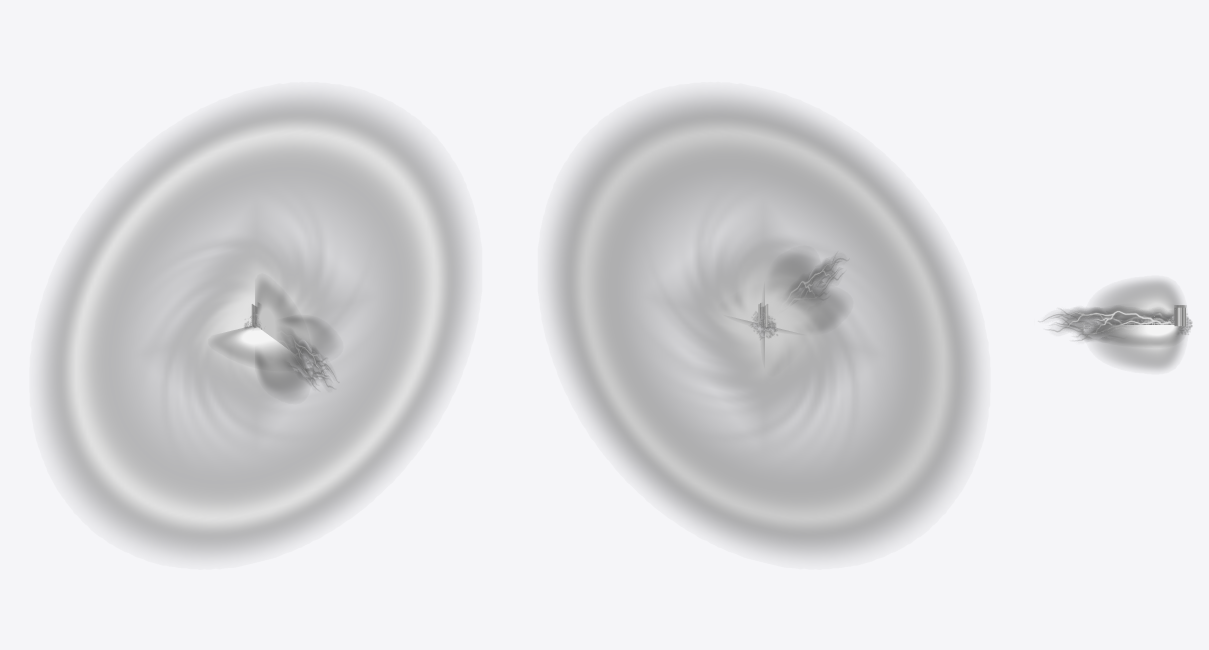
The model's file is si_eos_3210.glb.
3 renders of one model, left to right at view 1: azimuth 30°, elevation 25°; view 2: azimuth 150°, elevation 25°; view 3: azimuth 270°, elevation 25°, orthographic. The views are drawn at different scales.
Visible parts, largest first — view 1: layer_03_si_est_0402, layer_01_si_est_0103; view 2: layer_03_si_est_0402, layer_01_si_est_0103; view 3: layer_01_si_est_0103, layer_05_si_est_0800, layer_06_si_est_0800, layer_08_si_est_0800, layer_07_si_est_0800, layer_04_si_est_0600.
Boxes of the visible parts, box(x1,y1,x2,y2) form: layer_03_si_est_0402: box(42, 96, 469, 555); layer_01_si_est_0103: box(214, 279, 335, 397); layer_03_si_est_0402: box(550, 96, 977, 555); layer_01_si_est_0103: box(739, 255, 843, 353); layer_01_si_est_0103: box(1088, 280, 1185, 369); layer_05_si_est_0800: box(1042, 308, 1173, 340); layer_06_si_est_0800: box(1049, 309, 1173, 336); layer_08_si_est_0800: box(1061, 309, 1174, 338); layer_07_si_est_0800: box(1058, 312, 1171, 330); layer_04_si_est_0600: box(1174, 305, 1186, 326).
Size of the model in its own units: 160 by 160 by 55.
Materials: 6 (6 with a texture image).
